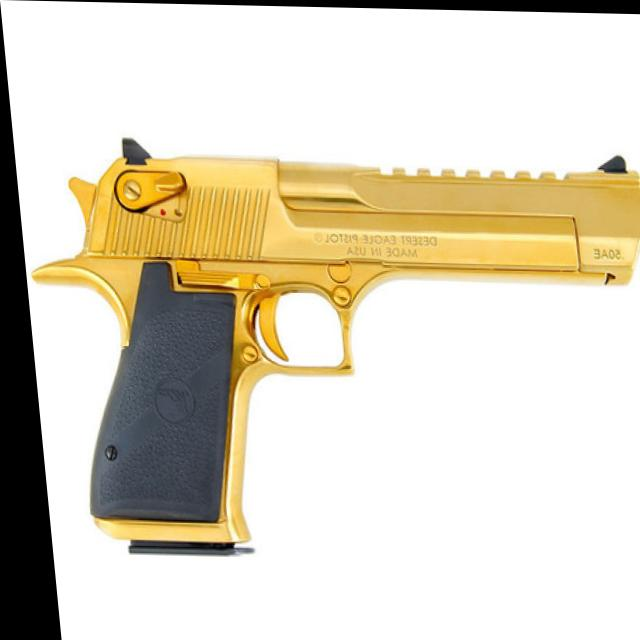handgun: (15, 129, 640, 617)
